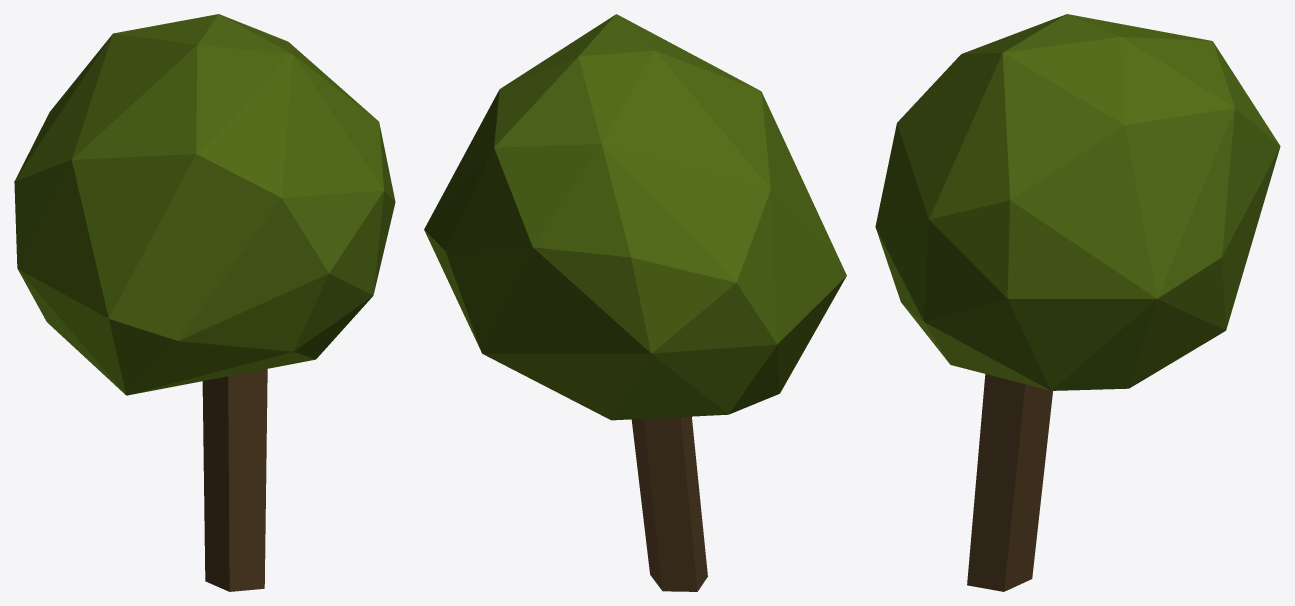
Rendered from TreesAndBushes_018.fbx.
The picture shows the model from 3 angles, left to right: view 1: azimuth 30°, elevation 25°; view 2: azimuth 150°, elevation 25°; view 3: azimuth 270°, elevation 25°; orthographic projection. The views are drawn at different scales.
Visible parts, largest first — view 1: TreesAndBushes_018; view 2: TreesAndBushes_018; view 3: TreesAndBushes_018.
Part boxes in pixels (<box>): TreesAndBushes_018: <box>14,14,395,591</box>; TreesAndBushes_018: <box>424,14,846,591</box>; TreesAndBushes_018: <box>875,14,1280,591</box>.
Bounding box in the file's own units: 21.68 × 33.49 × 21.89.
